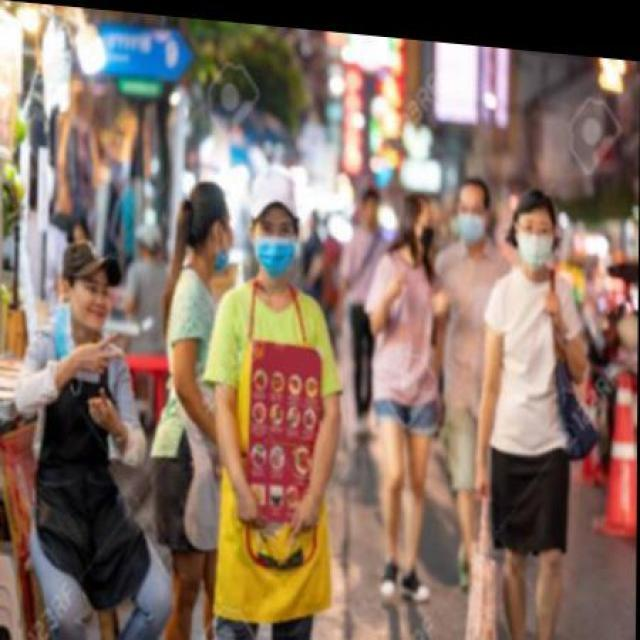hairnet: (54, 270, 110, 334), (210, 201, 234, 265)
